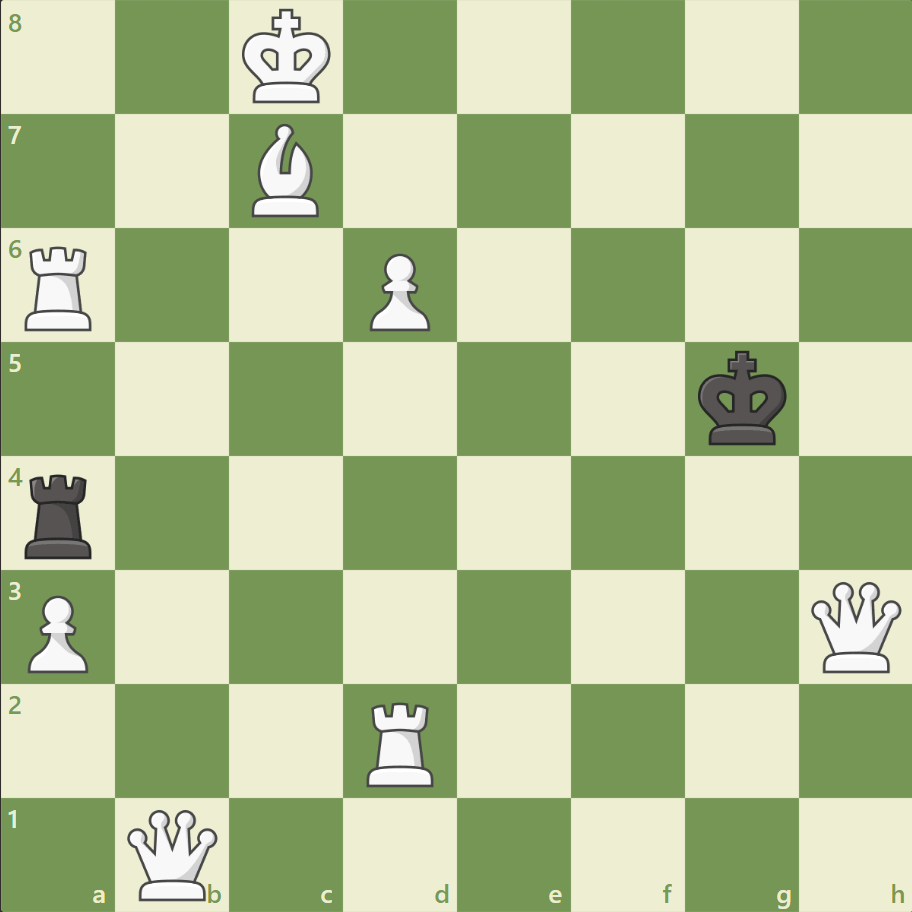B: (244, 120, 328, 222)
K: (238, 4, 338, 112)
P: (20, 586, 95, 677), (361, 246, 435, 337)
Q: (805, 576, 904, 676), (124, 804, 223, 903)
R: (19, 239, 102, 336), (360, 693, 442, 790)
k: (692, 344, 792, 452)
r: (19, 466, 102, 563)
